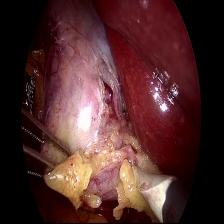Grasper: (20, 105, 73, 185)
Hook: (128, 153, 175, 212)
